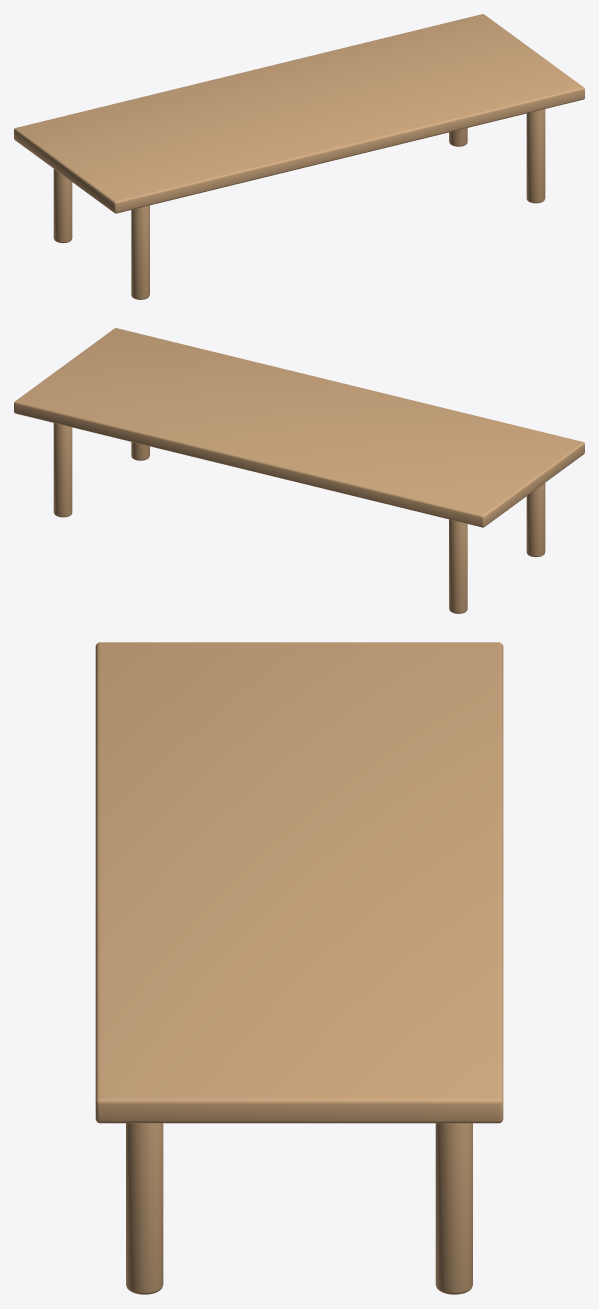
File: meeting-table-long.glb
The picture shows the model from 3 angles, top to bottom: view 1: azimuth 30°, elevation 25°; view 2: azimuth 150°, elevation 25°; view 3: azimuth 270°, elevation 25°; orthographic projection. The views are drawn at different scales.
Parts seen in each view (by area): view 1: top.005, leg-3.004, leg-1.004, leg-2.004; view 2: top.005, leg-4.004, leg-2.004, leg-1.004; view 3: top.005, leg-3.004, leg-4.004.
Part boxes in pixels (x1,y1,x2,y2): top.005: (14,14,584,213); leg-3.004: (526,109,545,203); leg-1.004: (131,205,149,299); leg-2.004: (53,169,72,243); top.005: (14,328,584,527); leg-4.004: (53,423,72,517); leg-2.004: (449,519,467,613); leg-1.004: (526,483,545,557); top.005: (95,642,503,1123); leg-3.004: (126,1123,163,1294); leg-4.004: (435,1123,472,1294).
Bounding box in the file's own units: 3.2 × 0.73 × 1.2.
